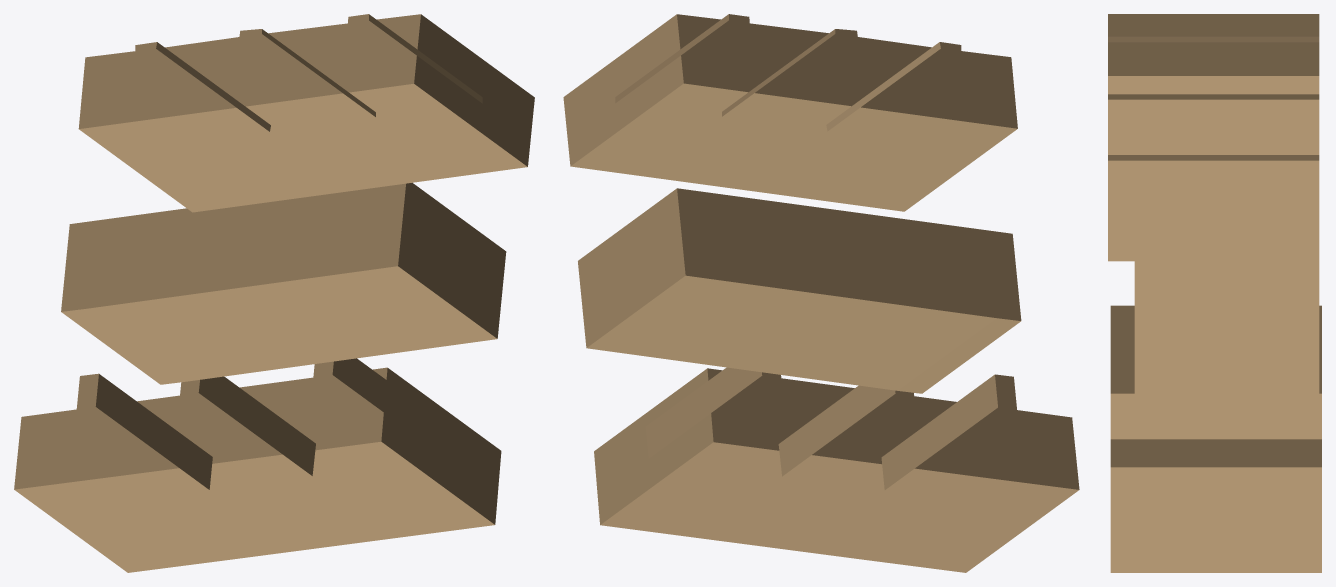
3 views of the same model, side by side, from view 1: azimuth 30°, elevation 25°; view 2: azimuth 150°, elevation 25°; view 3: azimuth 270°, elevation 25° (orthographic). The views are drawn at different scales.
Parts seen in each view (by area): view 1: 0_0_3_1_2_1_1_0; view 2: 0_0_3_1_2_1_1_0; view 3: 0_0_3_1_2_1_1_0.
Boxes of the visible parts, x1=… form: 0_0_3_1_2_1_1_0: x1=14, y1=14, x2=534, y2=572; 0_0_3_1_2_1_1_0: x1=563, y1=14, x2=1079, y2=572; 0_0_3_1_2_1_1_0: x1=1108, y1=14, x2=1321, y2=572.
Bounding box in the file's own units: 49.35 × 53.25 × 24.3.
